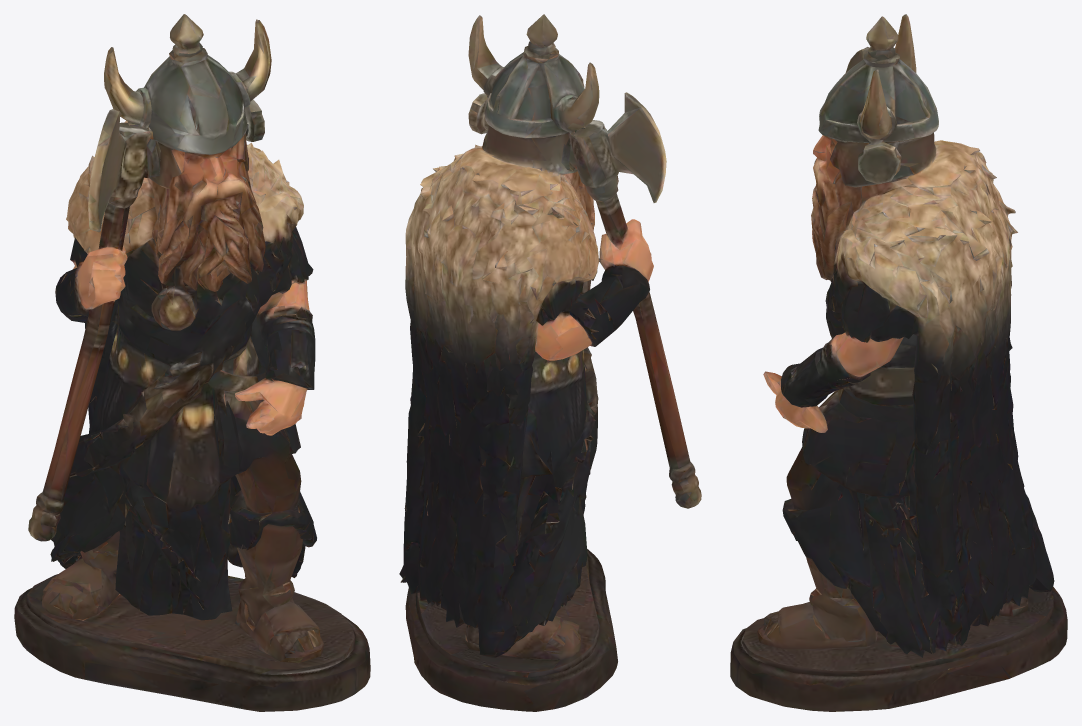
Rendered from piece-jarl.glb.
3 views of the same model, side by side, from view 1: azimuth 30°, elevation 25°; view 2: azimuth 150°, elevation 25°; view 3: azimuth 270°, elevation 25° (orthographic). The views are drawn at different scales.
Size of the model in its own units: 0.9256 by 1.9 by 0.9203.
Materials: 1 (1 with a texture image).
